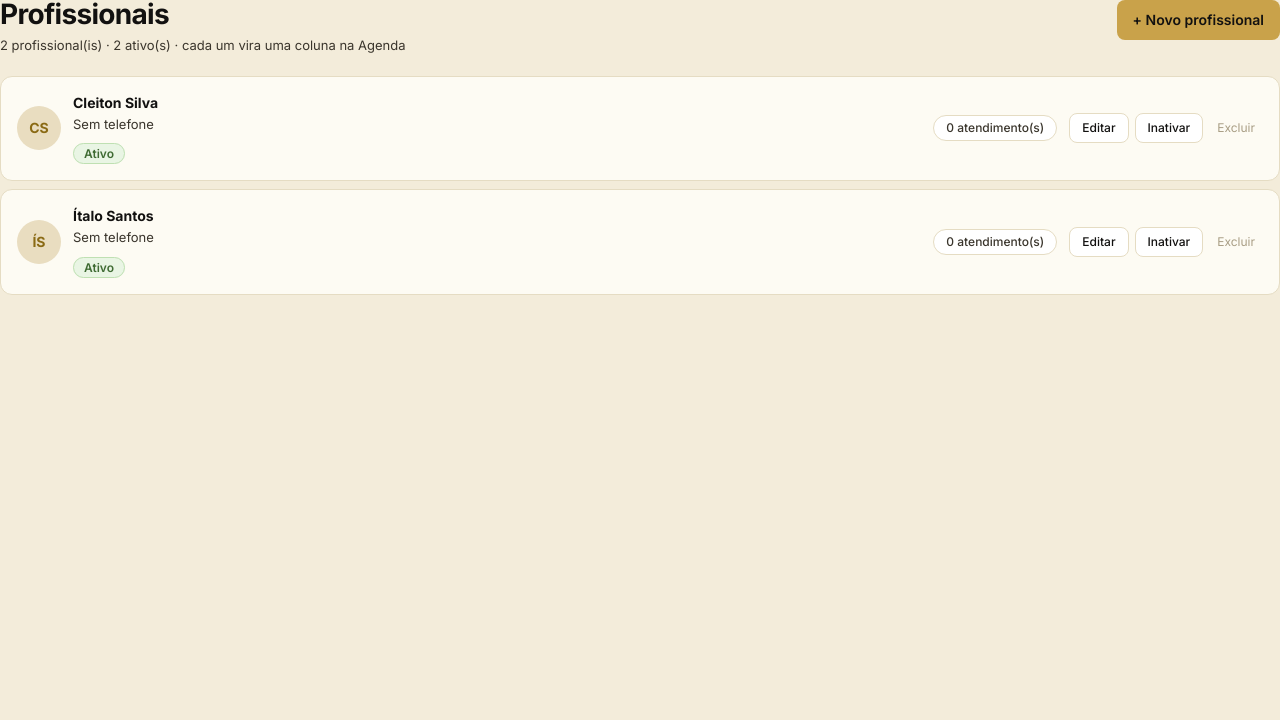
Confirmação de exclusão destrutiva › Profissionais: excluir exige confirmação
Click the button with aria-label "Excluir Cleiton Silva" at (1236, 128), box top-left (1209, 113), bottom-right (1263, 143)
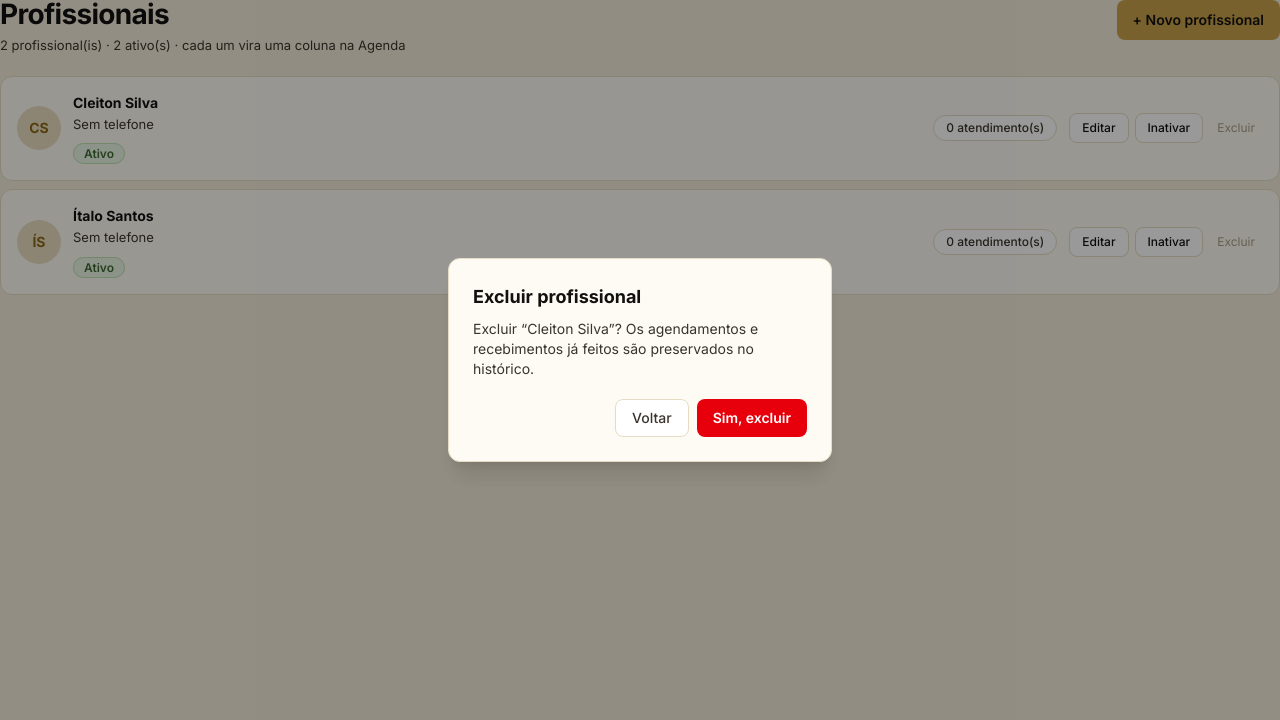
Check: the heading "Excluir profissional" is shown, box top-left (473, 286), bottom-right (641, 307)
Click the button "Voltar" at (652, 418), box top-left (615, 399), bottom-right (689, 437)
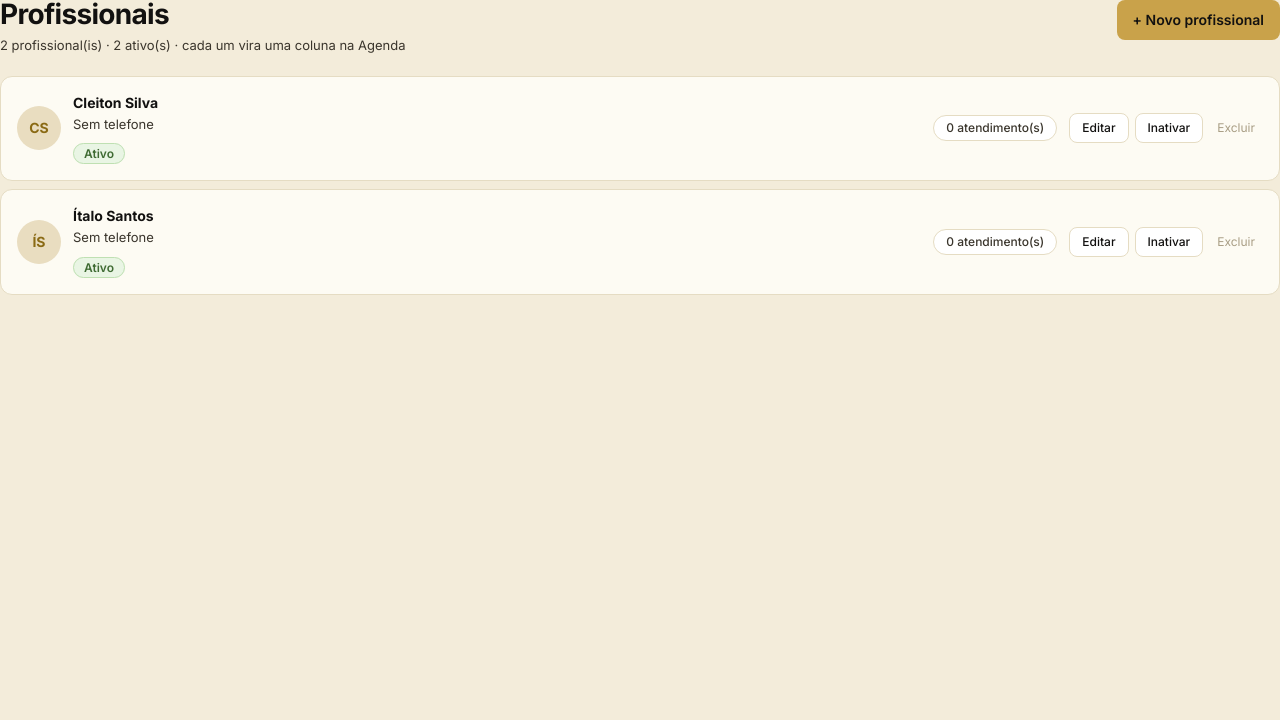
Check: the text "Cleiton Silva" is shown, box top-left (73, 94), bottom-right (158, 110)
Check: the heading "Excluir profissional" is gone
